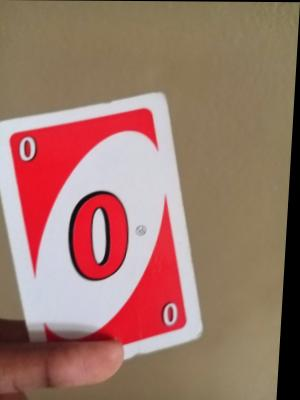num_0: (15, 130, 46, 166), (161, 298, 189, 329)
red: (0, 90, 211, 376)
